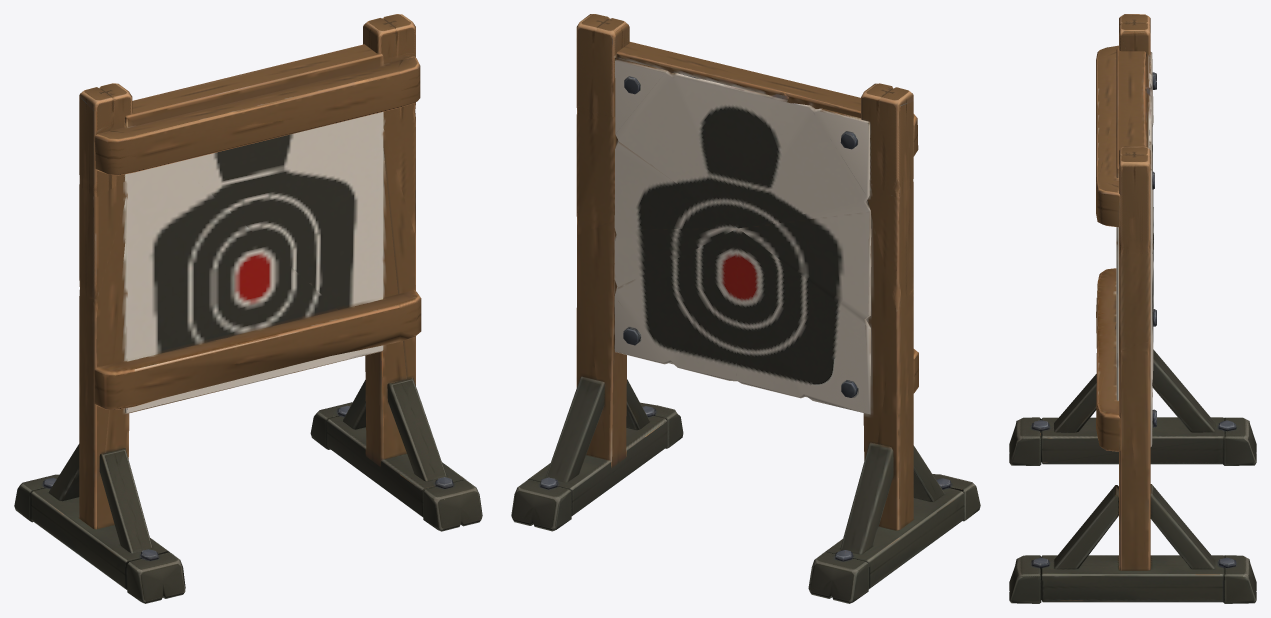
Rendered from target.glb.
3 renders of one model, left to right at view 1: azimuth 30°, elevation 25°; view 2: azimuth 150°, elevation 25°; view 3: azimuth 270°, elevation 25°, orthographic. The views are drawn at different scales.
Bounding box in the file's own units: 0.7417 × 0.9536 × 0.4888.
1 material, 1 textured.
